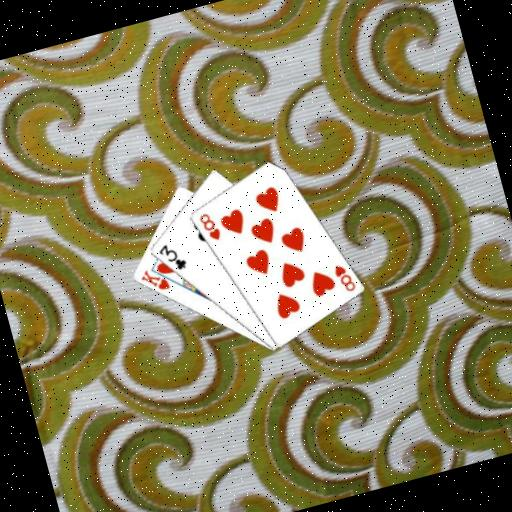3C: (153, 237, 189, 276)
8H: (194, 207, 223, 245), (329, 258, 357, 296)
KH: (135, 262, 172, 297)
